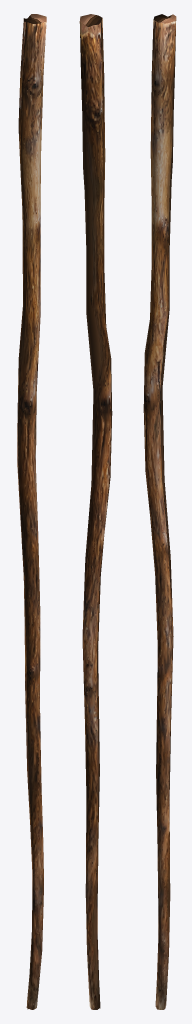
Rendered from mm6_mep_staff.glb.
3 views of the same model, side by side, from view 1: azimuth 30°, elevation 25°; view 2: azimuth 150°, elevation 25°; view 3: azimuth 330°, elevation 25° (orthographic).
Parts seen in each view (by area): view 1: Staff; view 2: Staff; view 3: Staff.
Part boxes in pixels (x1,y1,x2,y2): Staff: (17,14,46,1009); Staff: (79,14,112,1009); Staff: (143,14,176,1009).
Bounding box in the file's own units: 0.0444 × 1.41 × 0.0355.
1 material, 1 textured.
